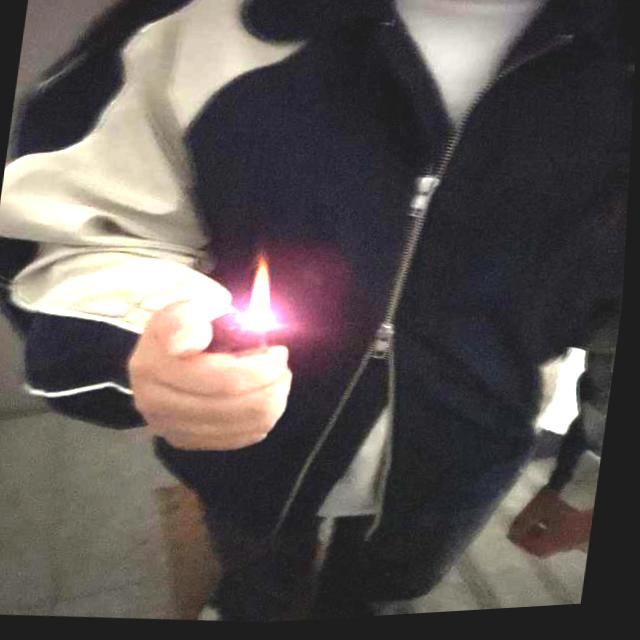Fire: (247, 263, 281, 322)
